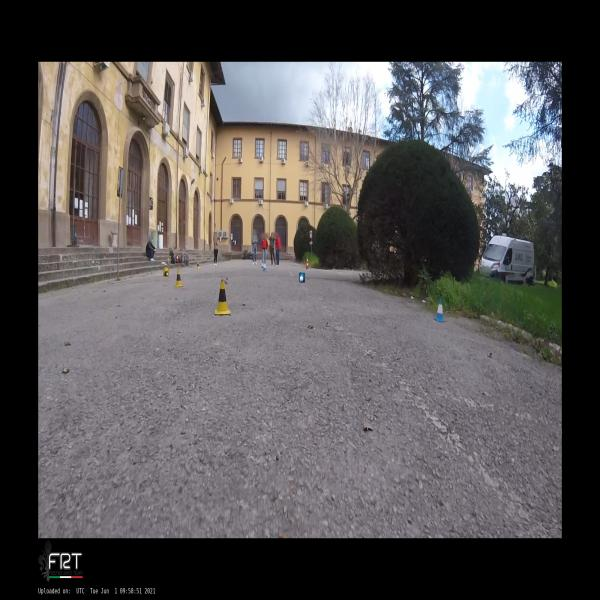blue_cone: (434, 297, 445, 322), (299, 273, 305, 282), (262, 261, 266, 271), (261, 260, 264, 268)
large_orange_cone: (305, 258, 309, 268)
yellow_cone: (215, 280, 230, 315), (175, 268, 183, 287), (163, 268, 169, 276), (197, 261, 199, 269)
